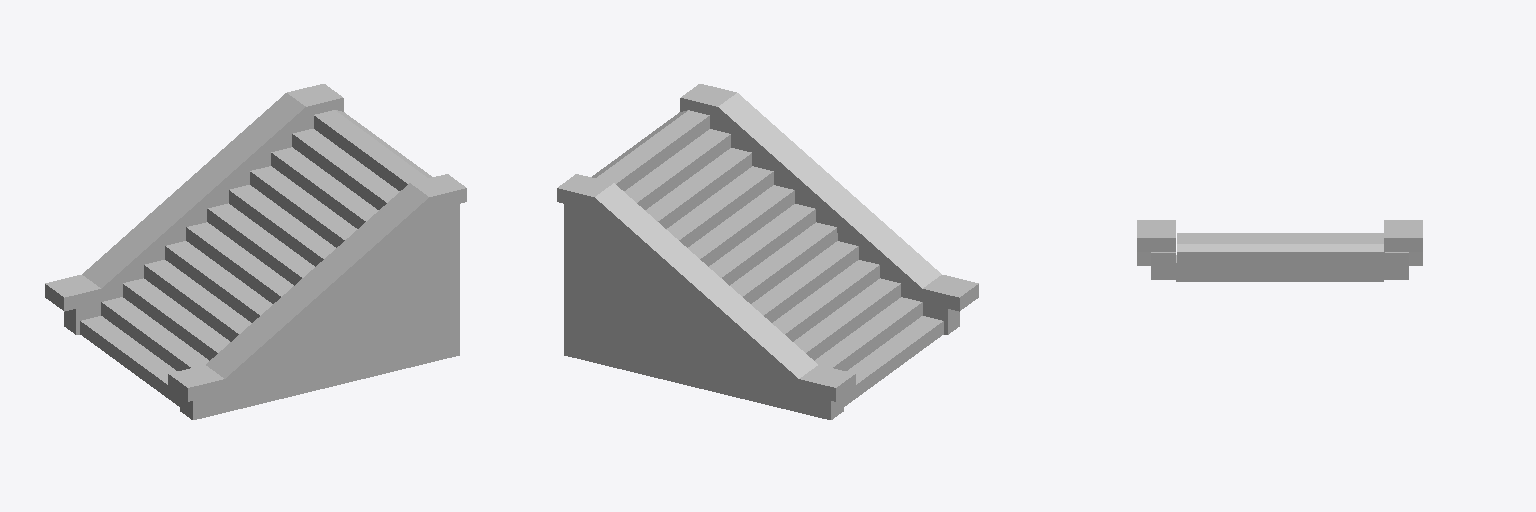
Rendered from Stairs.obj.
3 renders of one model, left to right at view 1: azimuth 30°, elevation 25°; view 2: azimuth 150°, elevation 25°; view 3: azimuth 270°, elevation 25°, orthographic.
Visible parts, largest first — view 1: Concrete_stairs; view 2: Concrete_stairs; view 3: Concrete_stairs.
Part boxes in pixels (x1,y1,x2,y2): Concrete_stairs: (45,84,466,419); Concrete_stairs: (557,84,978,419); Concrete_stairs: (1137,220,1422,281).
Bounding box in the file's own units: 2.83 × 1.67 × 2.51.